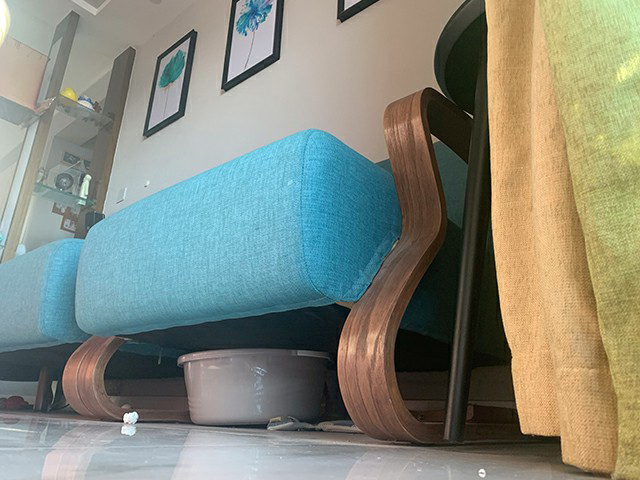curtain: (484, 1, 640, 479)
sofa: (1, 86, 543, 446)
